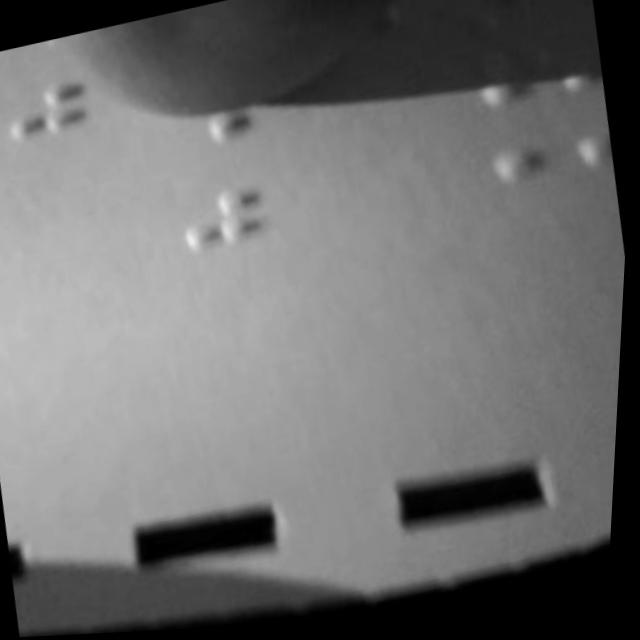braiile: (465, 96, 618, 198), (170, 166, 316, 258)
